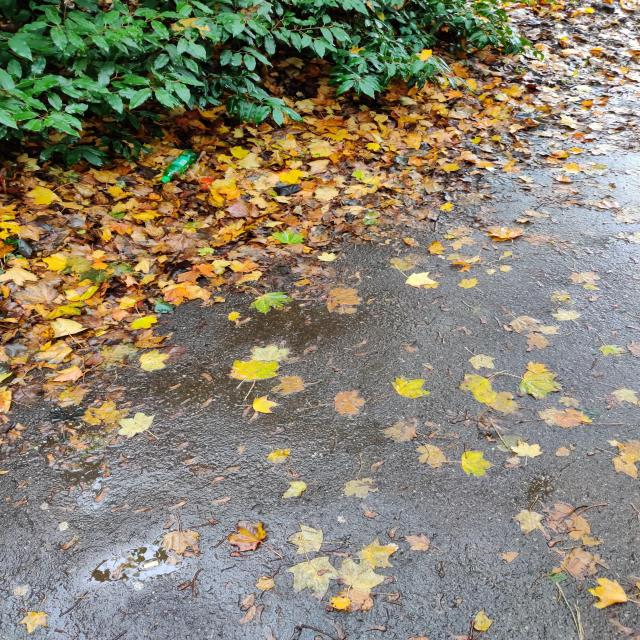litter: (164, 151, 193, 183), (177, 17, 217, 33)
